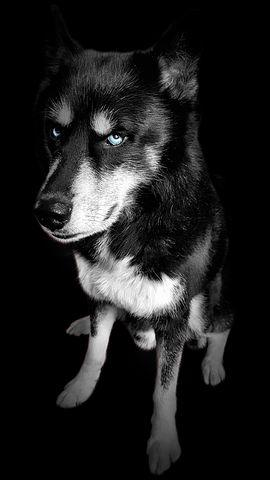Wolf: (28, 42, 239, 477)
